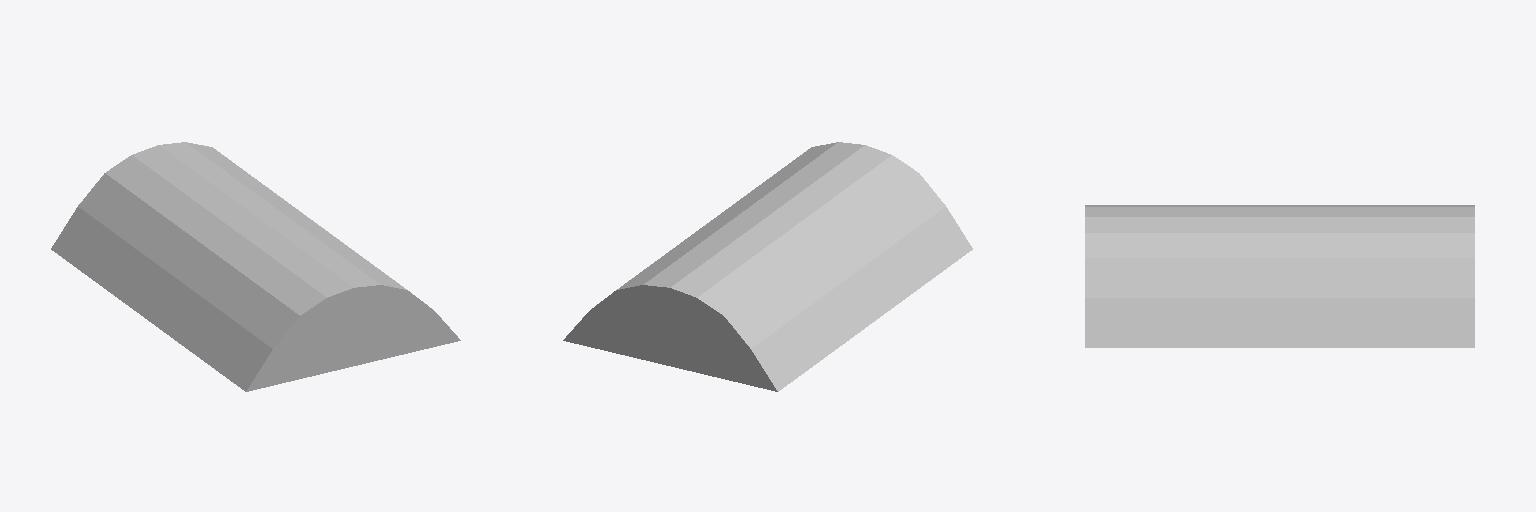
Rendered from chestLid.obj.
The picture shows the model from 3 angles: view 1: azimuth 30°, elevation 25°; view 2: azimuth 150°, elevation 25°; view 3: azimuth 270°, elevation 25°; orthographic projection.
Visible parts, largest first — view 1: Plane.001; view 2: Plane.001; view 3: Plane.001.
Boxes of the visible parts, x1,y1,x2,y2 form: Plane.001: [51, 142, 460, 391]; Plane.001: [563, 142, 972, 391]; Plane.001: [1085, 205, 1474, 347].
Bounding box in the file's own units: 2.36 × 0.8284 × 3.71.